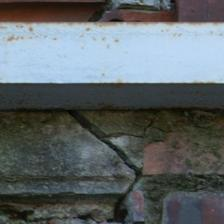Crack: (70, 111, 147, 220)
